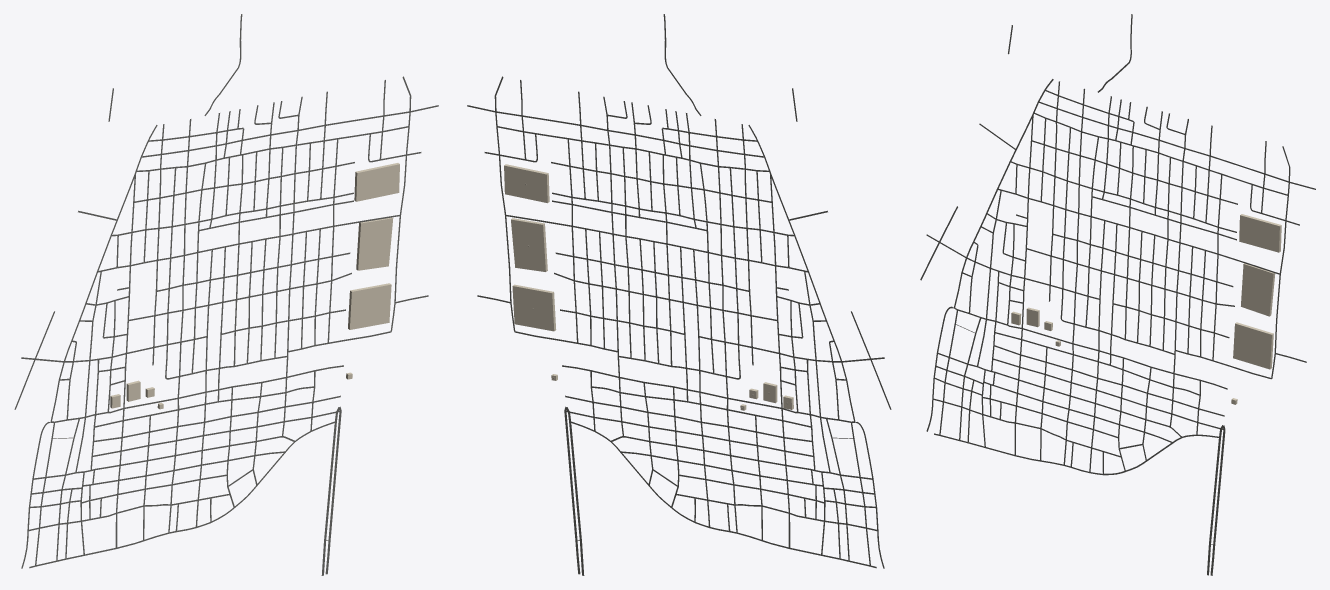
Rendered from irbid_3590_3247.glb.
3 renders of one model, left to right at view 1: azimuth 30°, elevation 25°; view 2: azimuth 150°, elevation 25°; view 3: azimuth 330°, elevation 25°, orthographic. The views are drawn at different scales.
Parts seen in each view (by area): view 1: Building_.006, Building_.004, Building_.005, Road, Road .042, Road .012, Road .063, Road .101, Road .001; view 2: Building_.006, Building_.004, Building_.005, Road, Road .042, Road .012, Road .063, Road .101, Road .001; view 3: Building_.006, Building_.004, Building_.005, Road, Road .042, Road .012, Road .063, Road .101, Road .001.
Boxes of the visible parts, x1,y1,x2,y2 form: Building_.006: (348, 283, 391, 329); Building_.004: (356, 217, 393, 270); Building_.005: (354, 163, 399, 201); Road: (21, 125, 157, 568); Road .042: (168, 119, 191, 532); Road .012: (165, 167, 287, 379); Road .063: (29, 421, 335, 568); Road .101: (51, 365, 343, 422); Road .001: (33, 436, 295, 479); Building_.006: (512, 284, 556, 331); Building_.004: (511, 218, 547, 271); Building_.005: (504, 164, 549, 203); Road: (748, 125, 884, 568); Road .042: (714, 119, 737, 532); Road .012: (618, 167, 740, 379); Road .063: (570, 421, 876, 568); Road .101: (562, 365, 854, 422); Road .001: (610, 436, 872, 479); Building_.006: (1233, 322, 1273, 369); Building_.004: (1241, 263, 1275, 316); Building_.005: (1239, 214, 1281, 252); Road: (926, 79, 1053, 431); Road .042: (1063, 88, 1084, 464); Road .012: (1060, 127, 1174, 354); Road .063: (934, 433, 1218, 475); Road .101: (954, 308, 1227, 389); Road .001: (938, 353, 1181, 437).
Bounding box in the file's own units: 954 × 1250 × 8.7.
